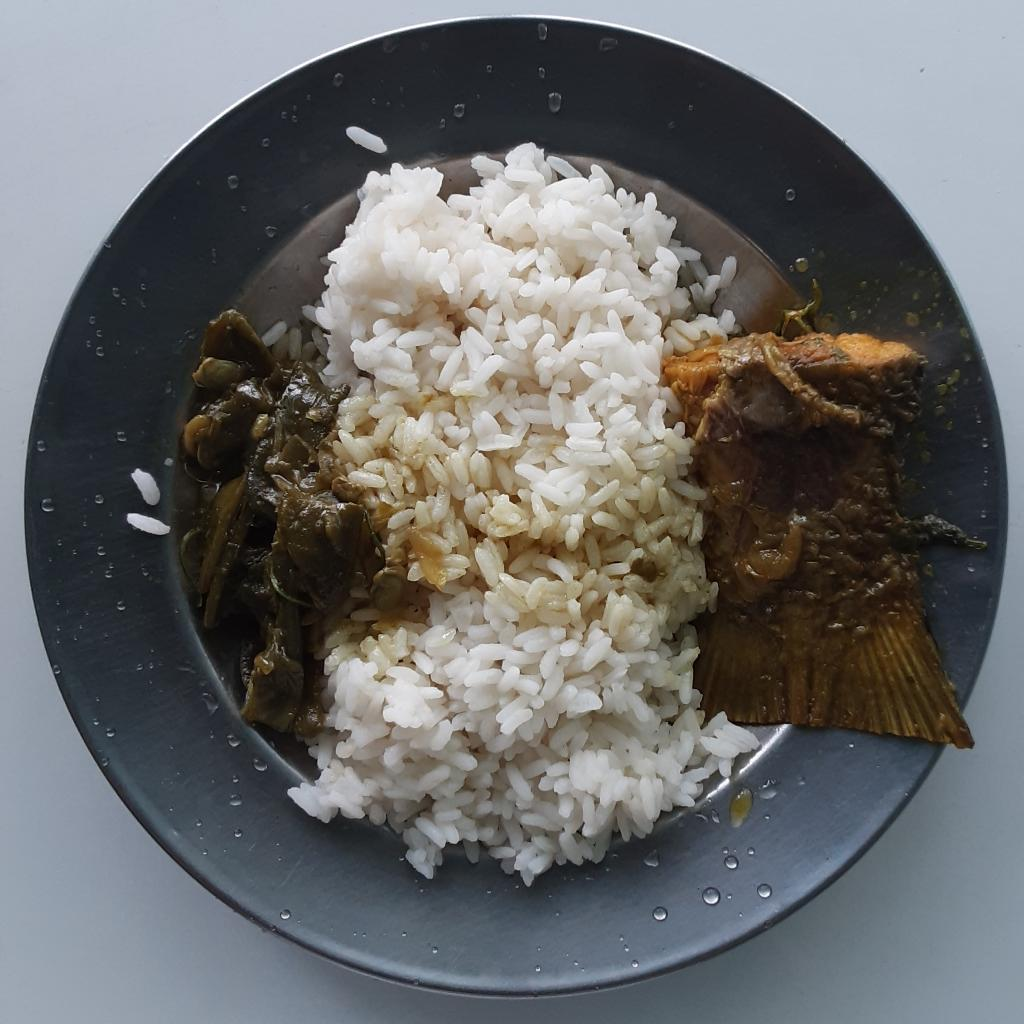fish: (670, 278, 987, 750)
rice: (265, 138, 761, 889)
shim: (176, 312, 402, 734)
